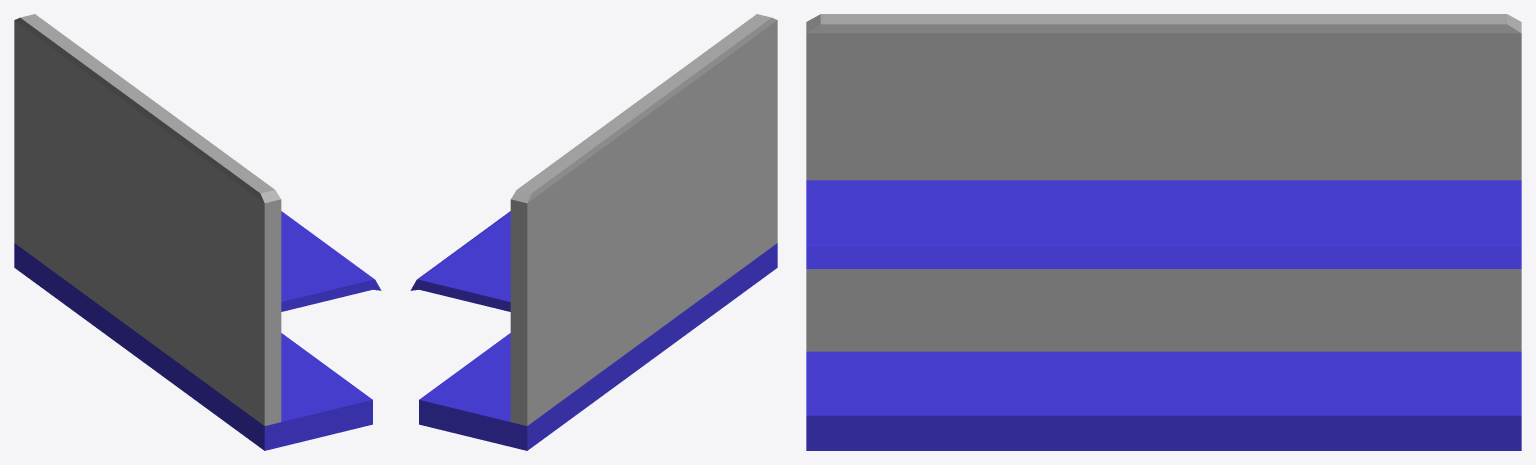
Rendered from shelf.glb.
3 views of the same model, side by side, from view 1: azimuth 30°, elevation 25°; view 2: azimuth 150°, elevation 25°; view 3: azimuth 270°, elevation 25° (orthographic). The views are drawn at different scales.
Visible parts, largest first — view 1: Shelf; view 2: Shelf; view 3: Shelf.
Part boxes in pixels (box(x1,y1,x2,y2)): Shelf: box(14, 14, 381, 450); Shelf: box(410, 14, 777, 450); Shelf: box(806, 14, 1521, 450).
Size of the model in its own units: 3.02 by 6.26 by 11.2.
